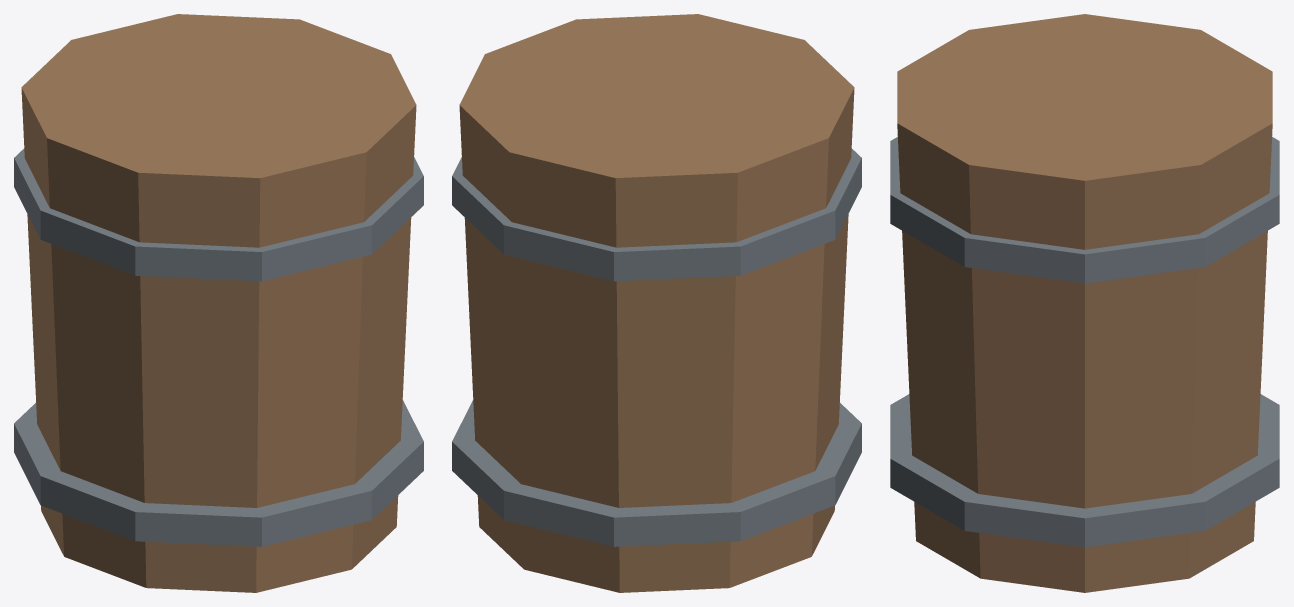
The model's file is barrel_weathered.glb.
The picture shows the model from 3 angles, left to right: view 1: azimuth 30°, elevation 25°; view 2: azimuth 150°, elevation 25°; view 3: azimuth 270°, elevation 25°; orthographic projection.
Parts seen in each view (by area): view 1: barrel_weathered; view 2: barrel_weathered; view 3: barrel_weathered.
Part boxes in pixels (x1=…): barrel_weathered: x1=14, y1=14, x2=423, y2=592; barrel_weathered: x1=452, y1=14, x2=861, y2=592; barrel_weathered: x1=890, y1=14, x2=1279, y2=592.
Size of the model in its own units: 0.83 by 0.94 by 0.7894.
